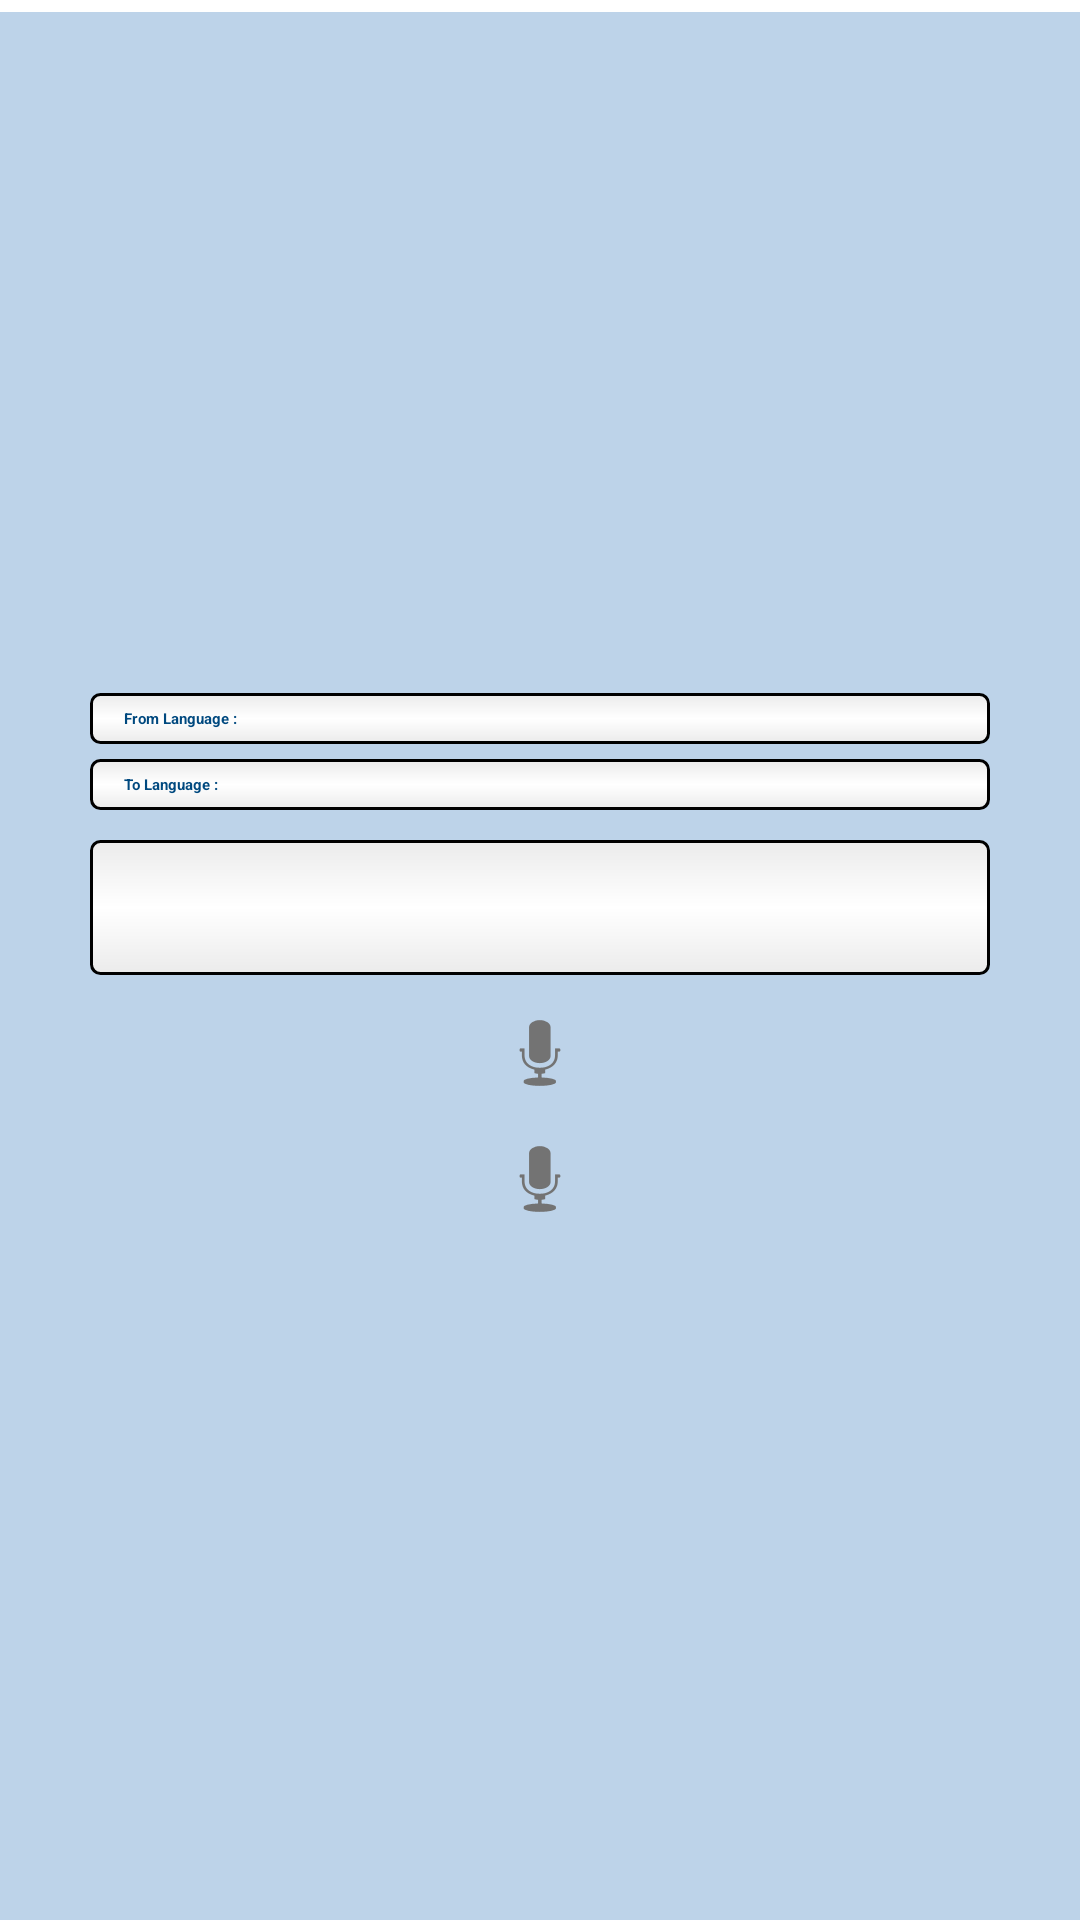

Point at icon controls on the screen. Image size 1080x1920, points as point (x, y).
Speak Now: point (540, 1053), point (540, 1179)
